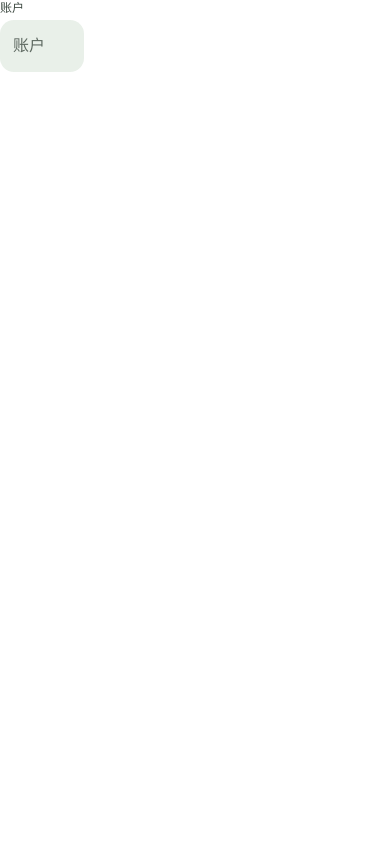
Test case: SourcePicker › archived accounts are out by default and kept by allowArchivedId
The image size is (390, 844).
Later steps or results of the test are not shown.
Click the button with test id "src-trigger": (42, 46) [0,20,84,72]
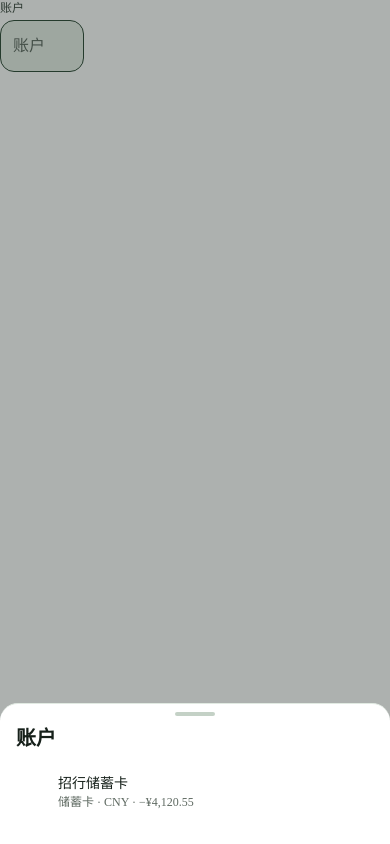
Check: the menu item with test id "src-option-aaaa" is shown, box [58,776,194,809]
